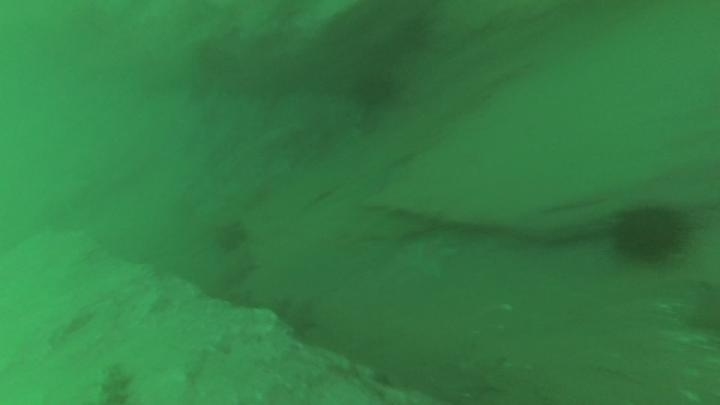echinus: (607, 199, 693, 268)
holothurian: (94, 361, 137, 405)
starfish: (398, 231, 460, 282)
